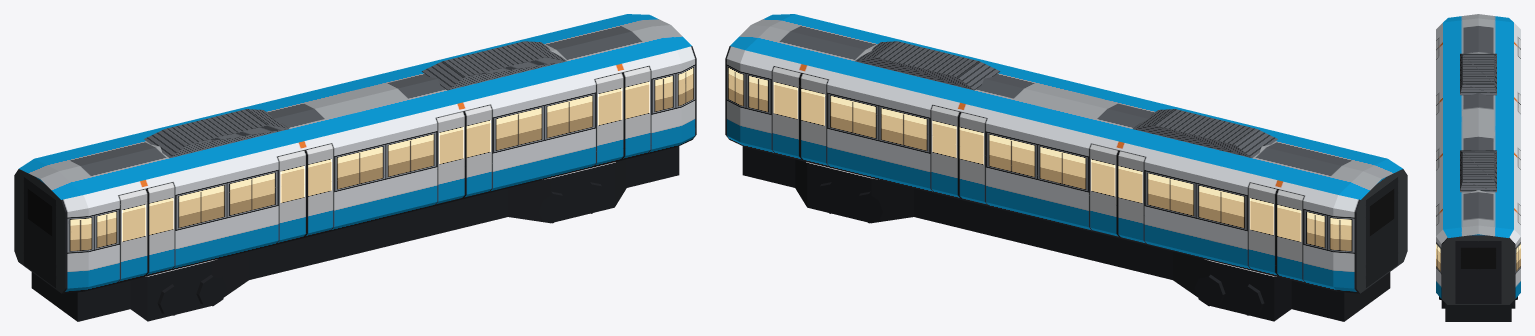
Rendered from paris_idfm_pneu__neutral.glb.
3 views of the same model, side by side, from view 1: azimuth 30°, elevation 25°; view 2: azimuth 150°, elevation 25°; view 3: azimuth 270°, elevation 25° (orthographic). The views are drawn at different scales.
Visible parts, largest first — view 1: paris_idfm_pneu__neutral; view 2: paris_idfm_pneu__neutral; view 3: paris_idfm_pneu__neutral.
Boxes of the visible parts, x1,y1,x2,y2 form: paris_idfm_pneu__neutral: (14, 14, 696, 321); paris_idfm_pneu__neutral: (725, 14, 1407, 321); paris_idfm_pneu__neutral: (1436, 14, 1520, 321).
Size of the model in its own units: 15 by 3.47 by 2.44.
Materials: 1 (1 with a texture image).
